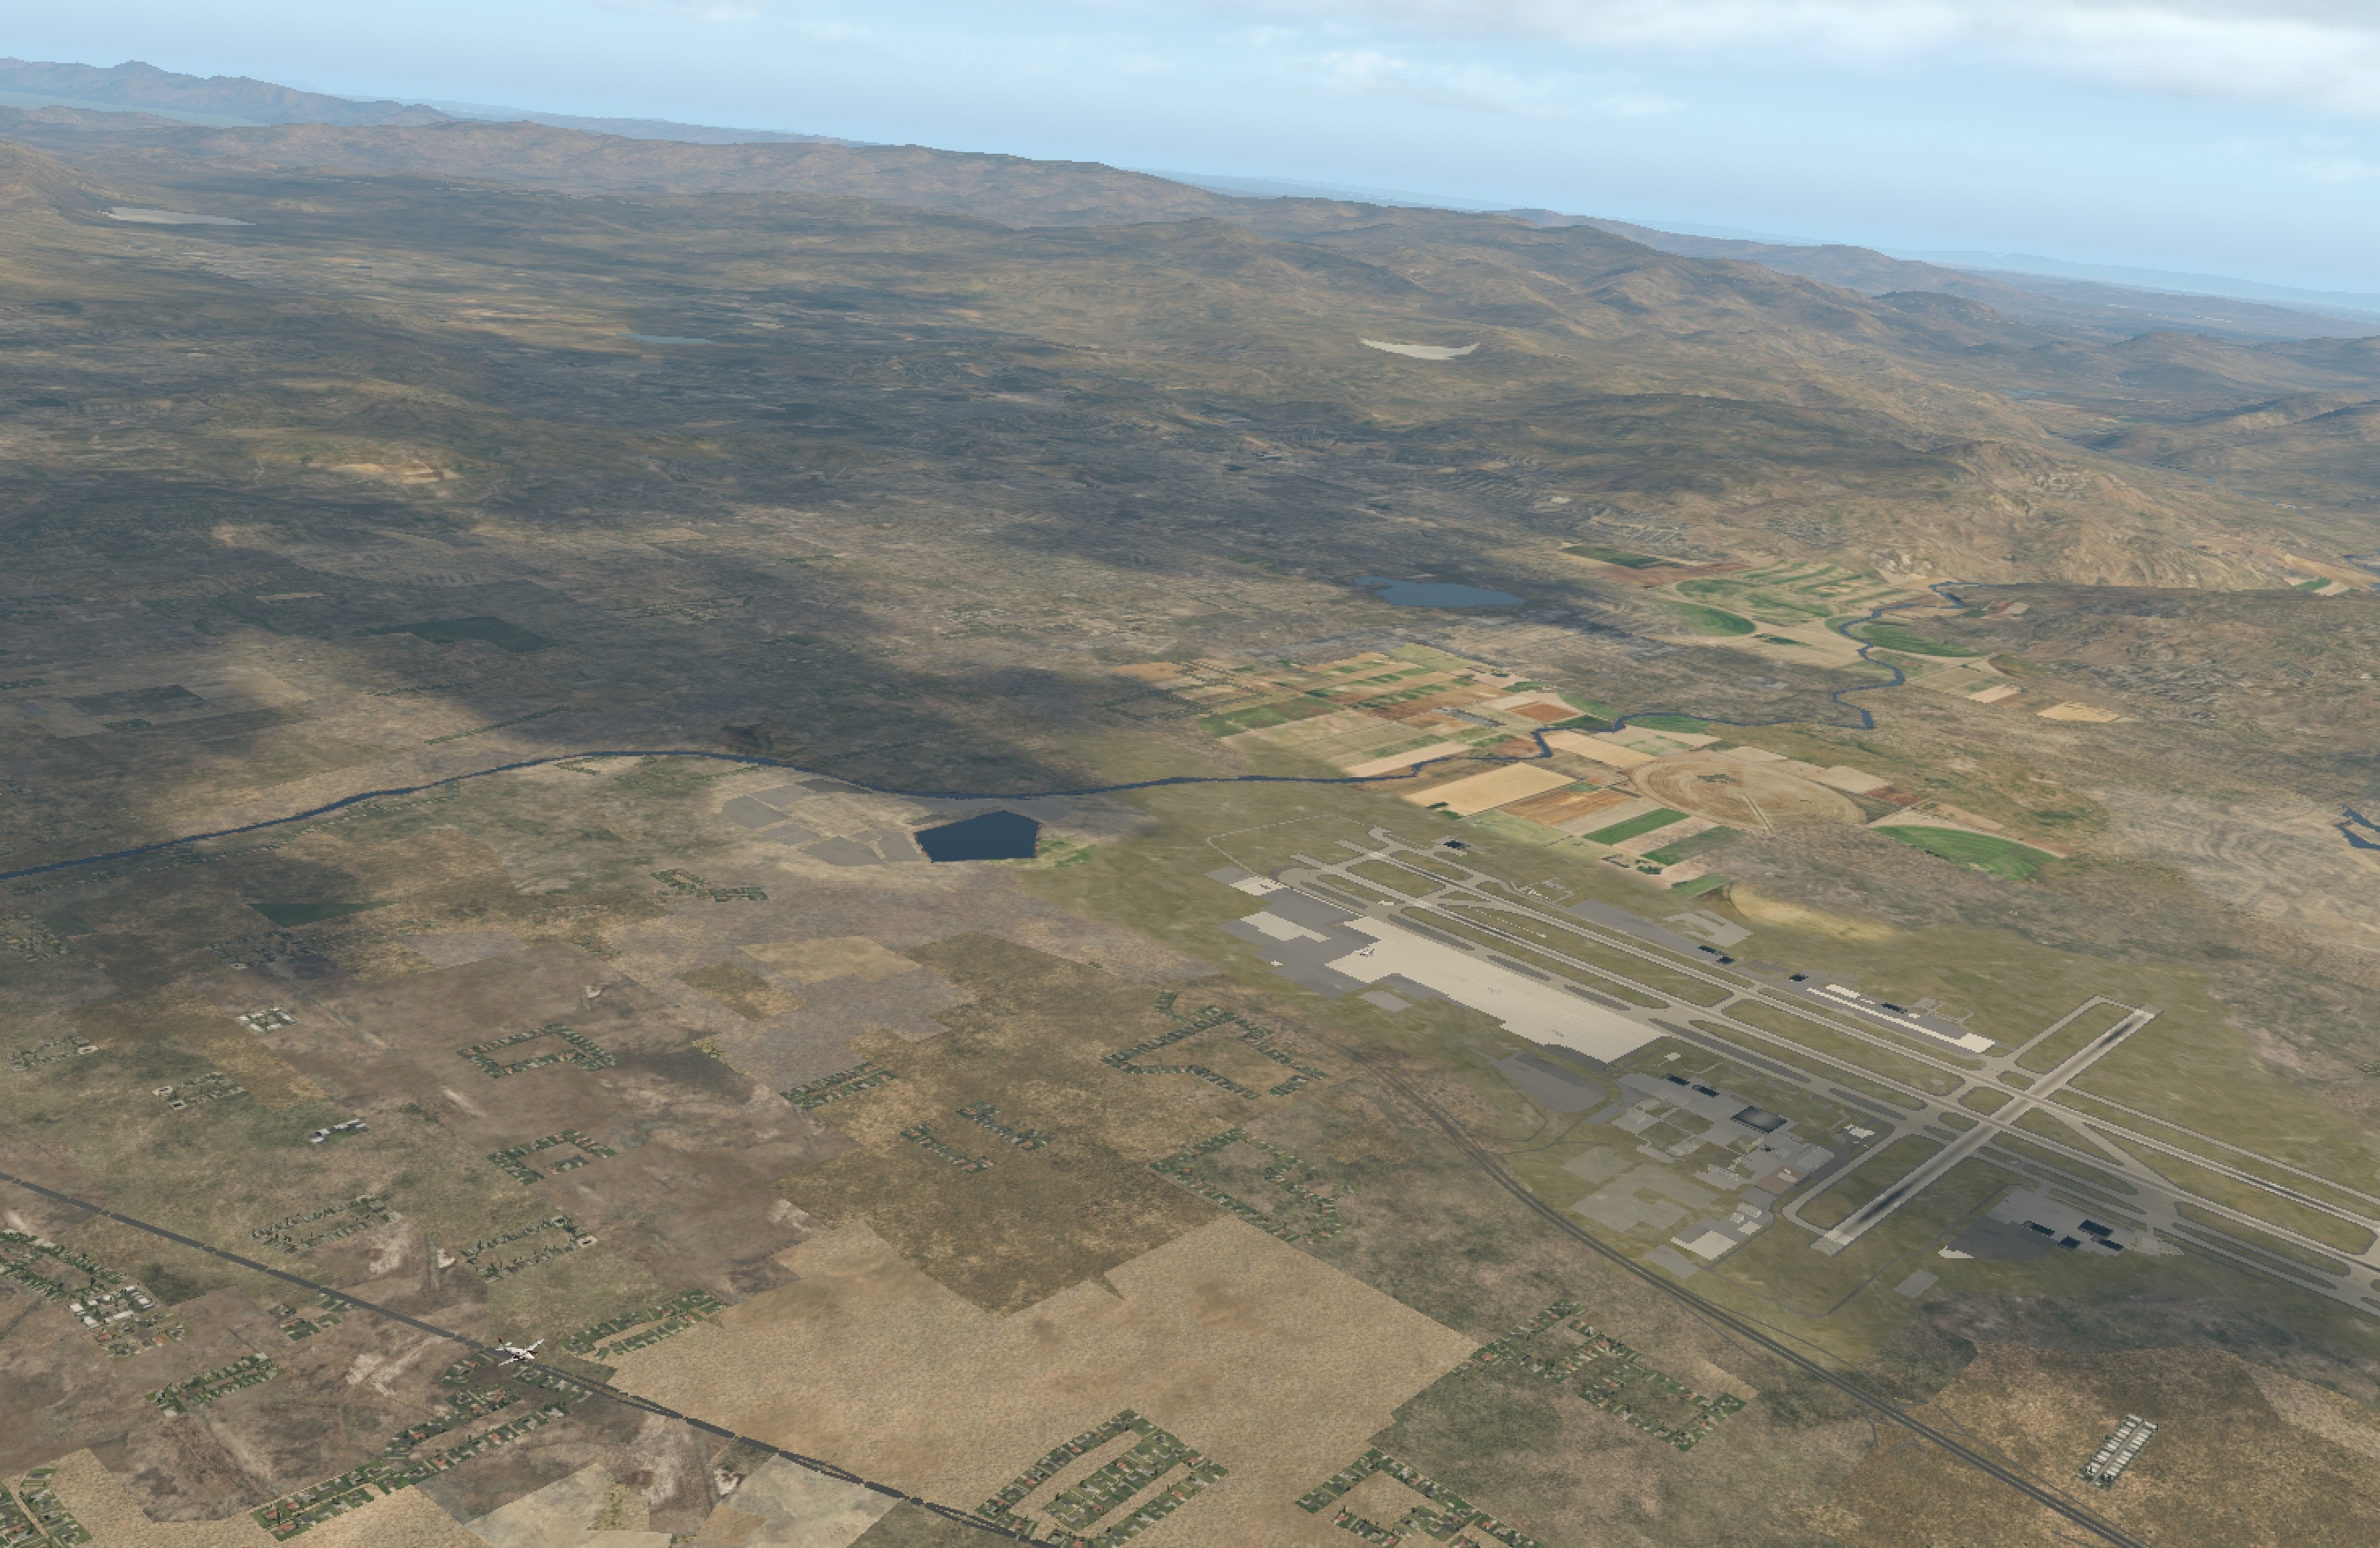aircraft: (493, 1345, 553, 1368)
